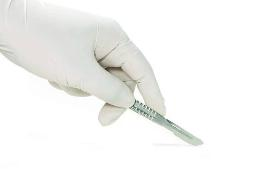scalpel: (128, 99, 204, 147)
